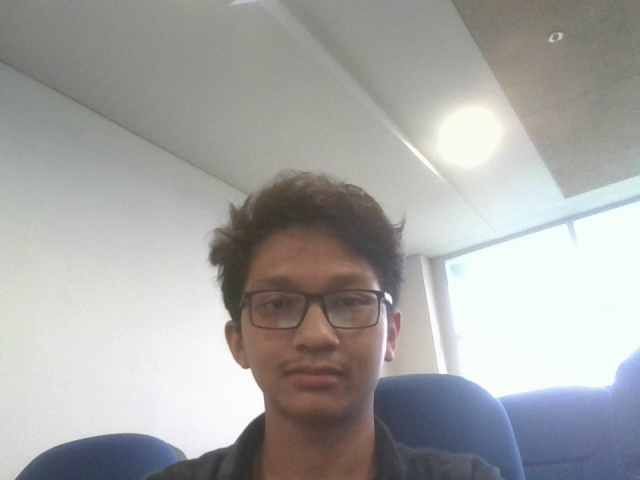Awake: (192, 164, 407, 479)
